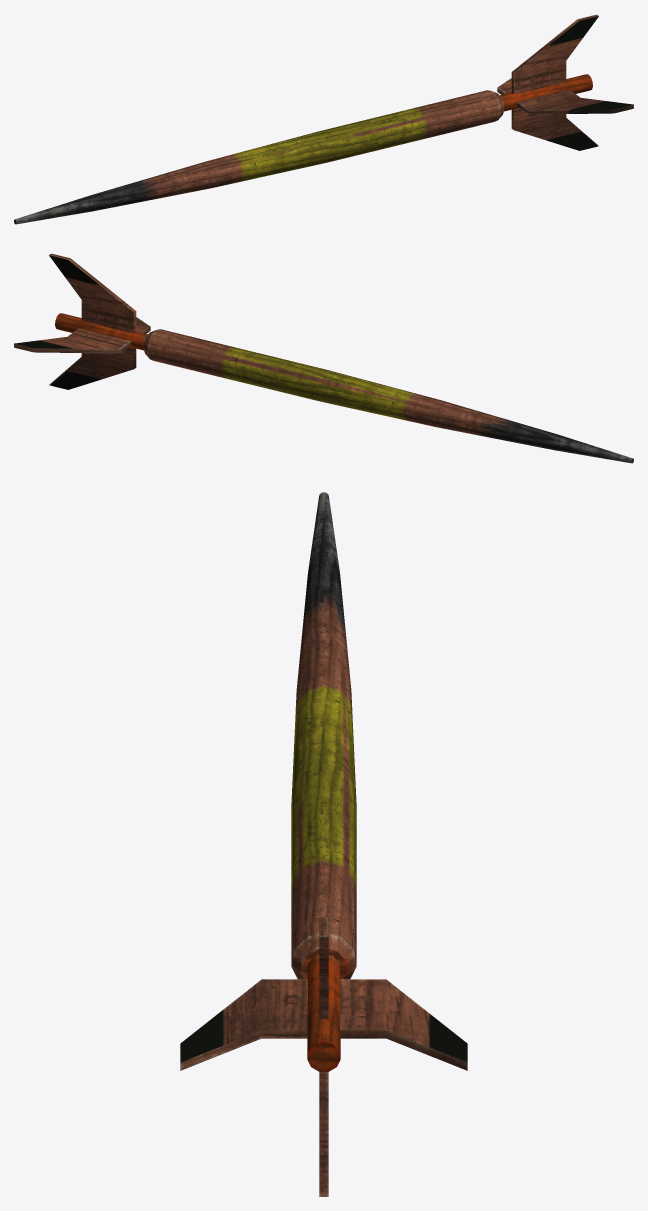
The model's file is dart finished.fbx.
3 views of the same model, one above another, from view 1: azimuth 30°, elevation 25°; view 2: azimuth 150°, elevation 25°; view 3: azimuth 270°, elevation 25° (orthographic). The views are drawn at different scales.
Visible parts, largest first — view 1: Cube_2; view 2: Cube_2; view 3: Cube_2.
Part boxes in pixels (bbox=[...]): Cube_2: bbox=[14, 14, 633, 224]; Cube_2: bbox=[14, 253, 633, 463]; Cube_2: bbox=[180, 492, 467, 1196].
Bounding box in the file's own units: 423 × 90.1 × 90.1.
